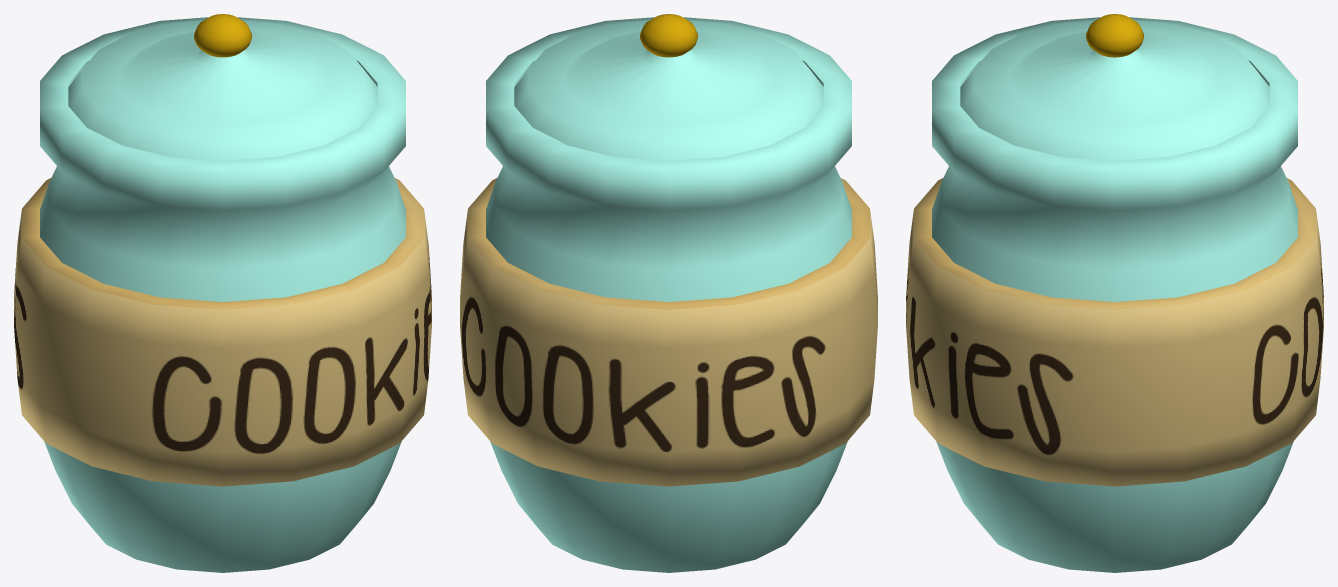
The model's file is CookieJar 1.FBX.
3 renders of one model, left to right at view 1: azimuth 30°, elevation 25°; view 2: azimuth 150°, elevation 25°; view 3: azimuth 270°, elevation 25°, orthographic.
Parts seen in each view (by area): view 1: CookieJarGlass, CookieJar; view 2: CookieJarGlass, CookieJar; view 3: CookieJarGlass, CookieJar.
Boxes of the visible parts, x1=… form: CookieJarGlass: x1=40, y1=17, x2=405, y2=572; CookieJar: x1=14, y1=14, x2=431, y2=486; CookieJarGlass: x1=486, y1=17, x2=851, y2=572; CookieJar: x1=460, y1=14, x2=877, y2=486; CookieJarGlass: x1=932, y1=17, x2=1297, y2=572; CookieJar: x1=906, y1=14, x2=1323, y2=486.
Size of the model in its own units: 27.38 by 35.62 by 26.97.
